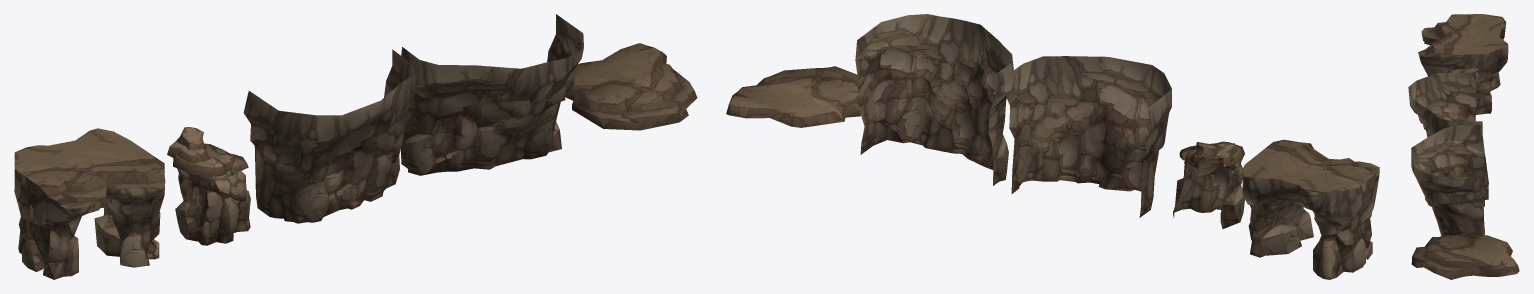
The model's file is 2_SM_ShiQiang_01.FBX.
3 renders of one model, left to right at view 1: azimuth 30°, elevation 25°; view 2: azimuth 150°, elevation 25°; view 3: azimuth 270°, elevation 25°, orthographic. The views are drawn at different scales.
Visible parts, largest first — view 1: 2_SM_ShiQiang_04, 2_SM_ShiQiang_02, 2_SM_ShiQiang_01, 2_SM_ShiQiang_05, 2_SM_ShiQiang_03, 2_SM_ShiQiang_03_02; view 2: 2_SM_ShiQiang_01, 2_SM_ShiQiang_04, 2_SM_ShiQiang_02, 2_SM_ShiQiang_05, 2_SM_ShiQiang_03, 2_SM_ShiQiang_03_02; view 3: 2_SM_ShiQiang_04, 2_SM_ShiQiang_02, 2_SM_ShiQiang_05, 2_SM_ShiQiang_01, 2_SM_ShiQiang_03_02.
Boxes of the visible parts, x1=… form: 2_SM_ShiQiang_04: x1=401, y1=14, x2=583, y2=175; 2_SM_ShiQiang_02: x1=14, y1=128, x2=165, y2=279; 2_SM_ShiQiang_01: x1=243, y1=49, x2=415, y2=223; 2_SM_ShiQiang_05: x1=565, y1=43, x2=697, y2=130; 2_SM_ShiQiang_03: x1=173, y1=160, x2=250, y2=245; 2_SM_ShiQiang_03_02: x1=167, y1=127, x2=248, y2=175; 2_SM_ShiQiang_01: x1=1004, y1=56, x2=1171, y2=217; 2_SM_ShiQiang_04: x1=855, y1=14, x2=1013, y2=185; 2_SM_ShiQiang_02: x1=1242, y1=139, x2=1379, y2=279; 2_SM_ShiQiang_05: x1=726, y1=66, x2=860, y2=127; 2_SM_ShiQiang_03: x1=1173, y1=157, x2=1244, y2=228; 2_SM_ShiQiang_03_02: x1=1179, y1=141, x2=1244, y2=168; 2_SM_ShiQiang_04: x1=1411, y1=124, x2=1484, y2=236; 2_SM_ShiQiang_02: x1=1418, y1=14, x2=1508, y2=114; 2_SM_ShiQiang_05: x1=1411, y1=234, x2=1519, y2=279; 2_SM_ShiQiang_01: x1=1408, y1=72, x2=1488, y2=199; 2_SM_ShiQiang_03_02: x1=1446, y1=67, x2=1481, y2=89.
Bounding box in the file's own units: 4803 × 852 × 1018.
